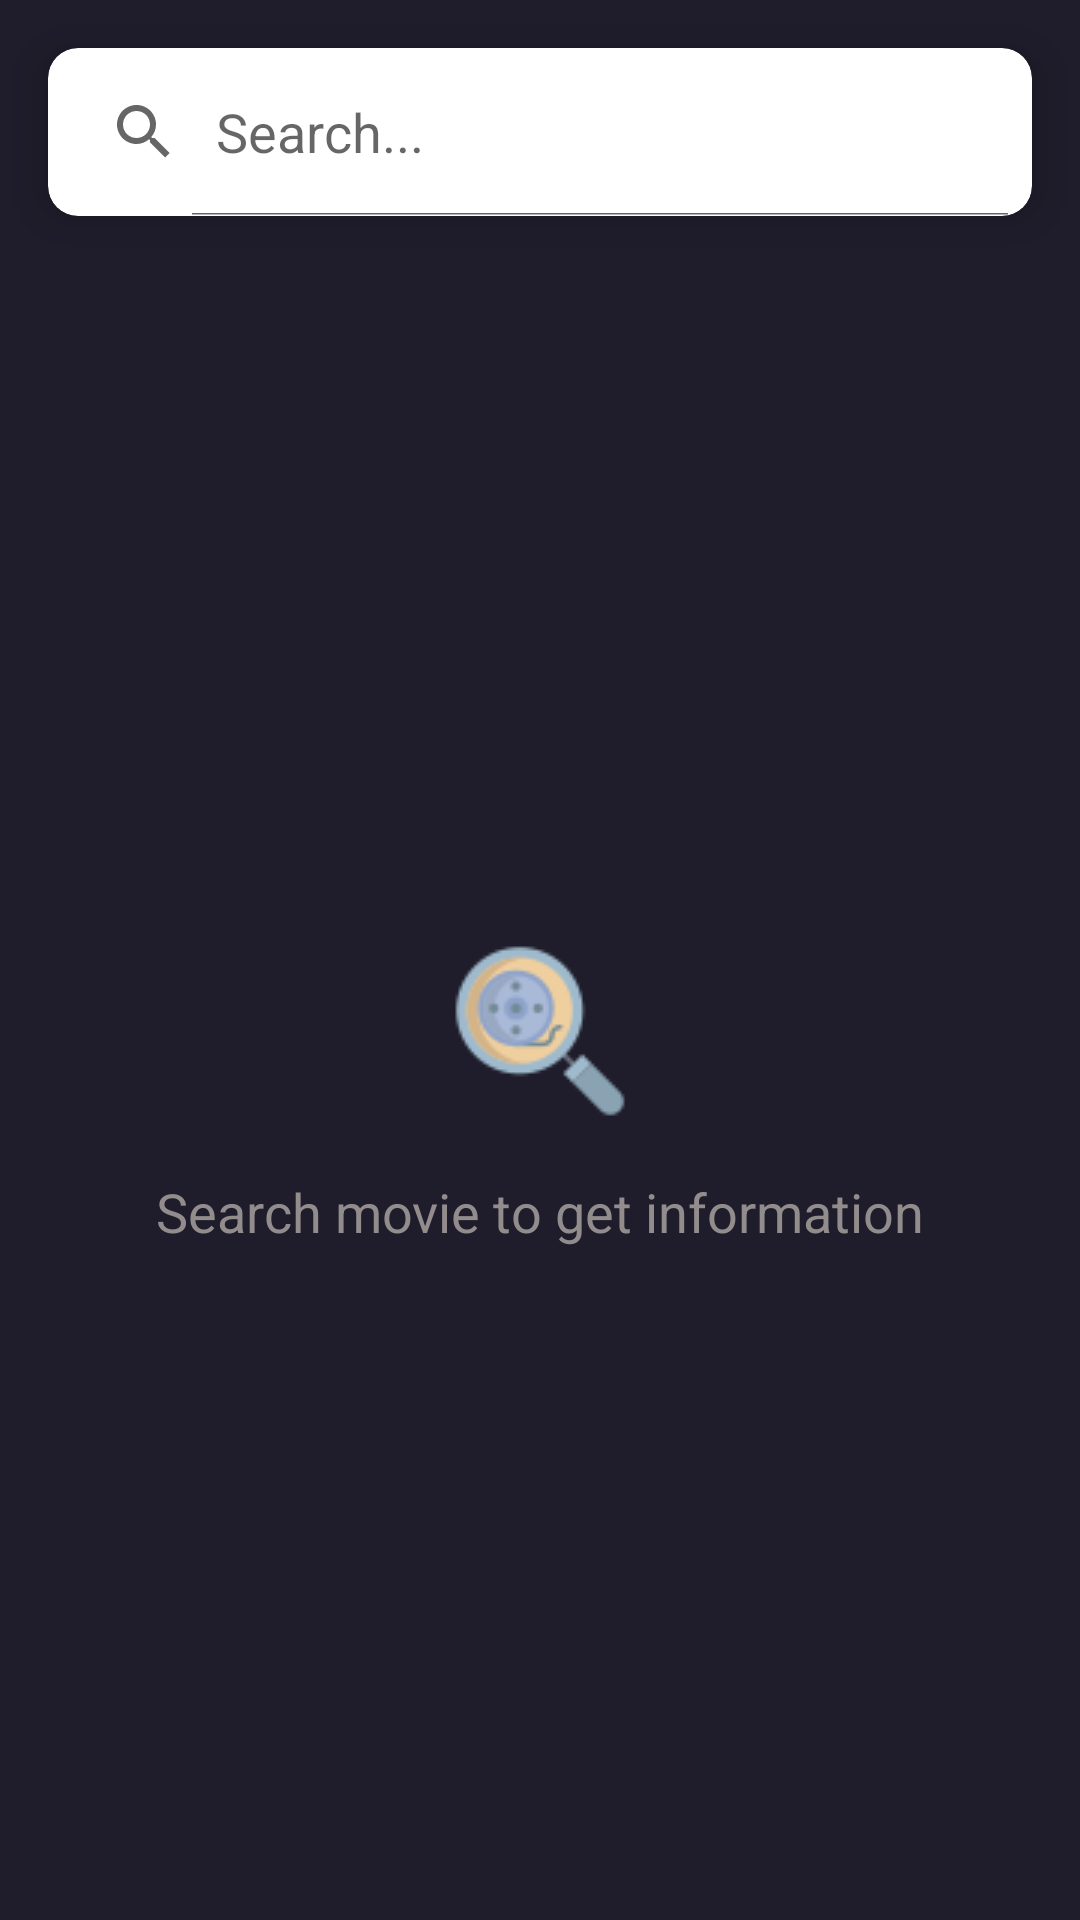

Point at icon controls on the screen. Image size 1080px×1920px, points as [x,y].
search film: [540,1031]
